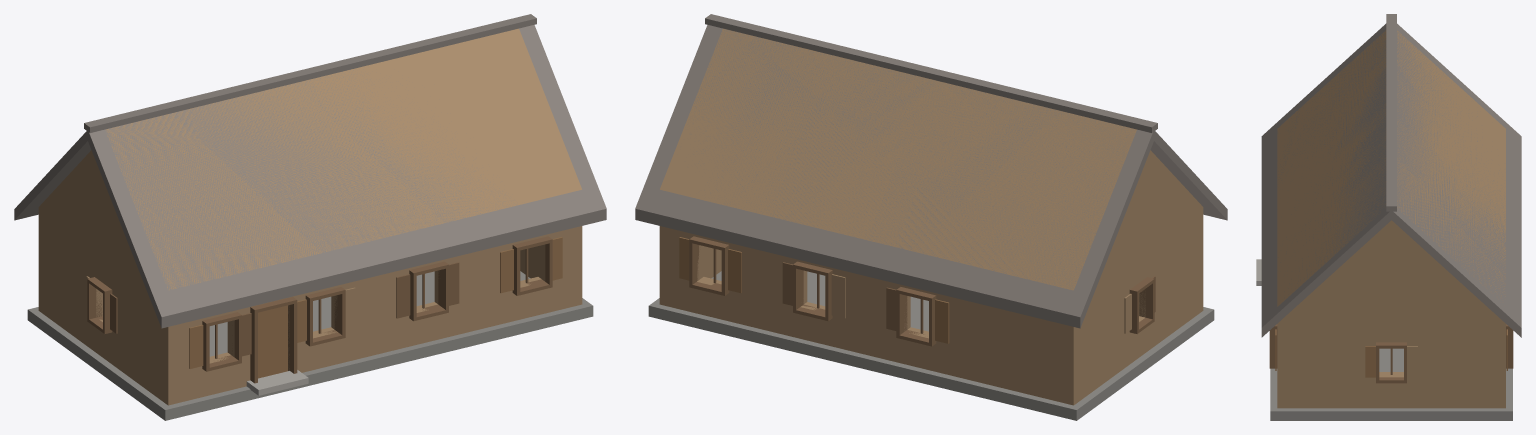
File: House_Long.fbx
3 renders of one model, left to right at view 1: azimuth 30°, elevation 25°; view 2: azimuth 150°, elevation 25°; view 3: azimuth 270°, elevation 25°, orthographic. The views are drawn at different scales.
Visible parts, largest first — view 1: House_Long; view 2: House_Long; view 3: House_Long.
Part boxes in pixels (left/top/right/bottom): House_Long: left=14, top=14, right=606, bottom=420; House_Long: left=635, top=14, right=1227, bottom=420; House_Long: left=1256, top=14, right=1521, bottom=420.
Bounding box in the file's own units: 12.95 × 7.55 × 6.86.
